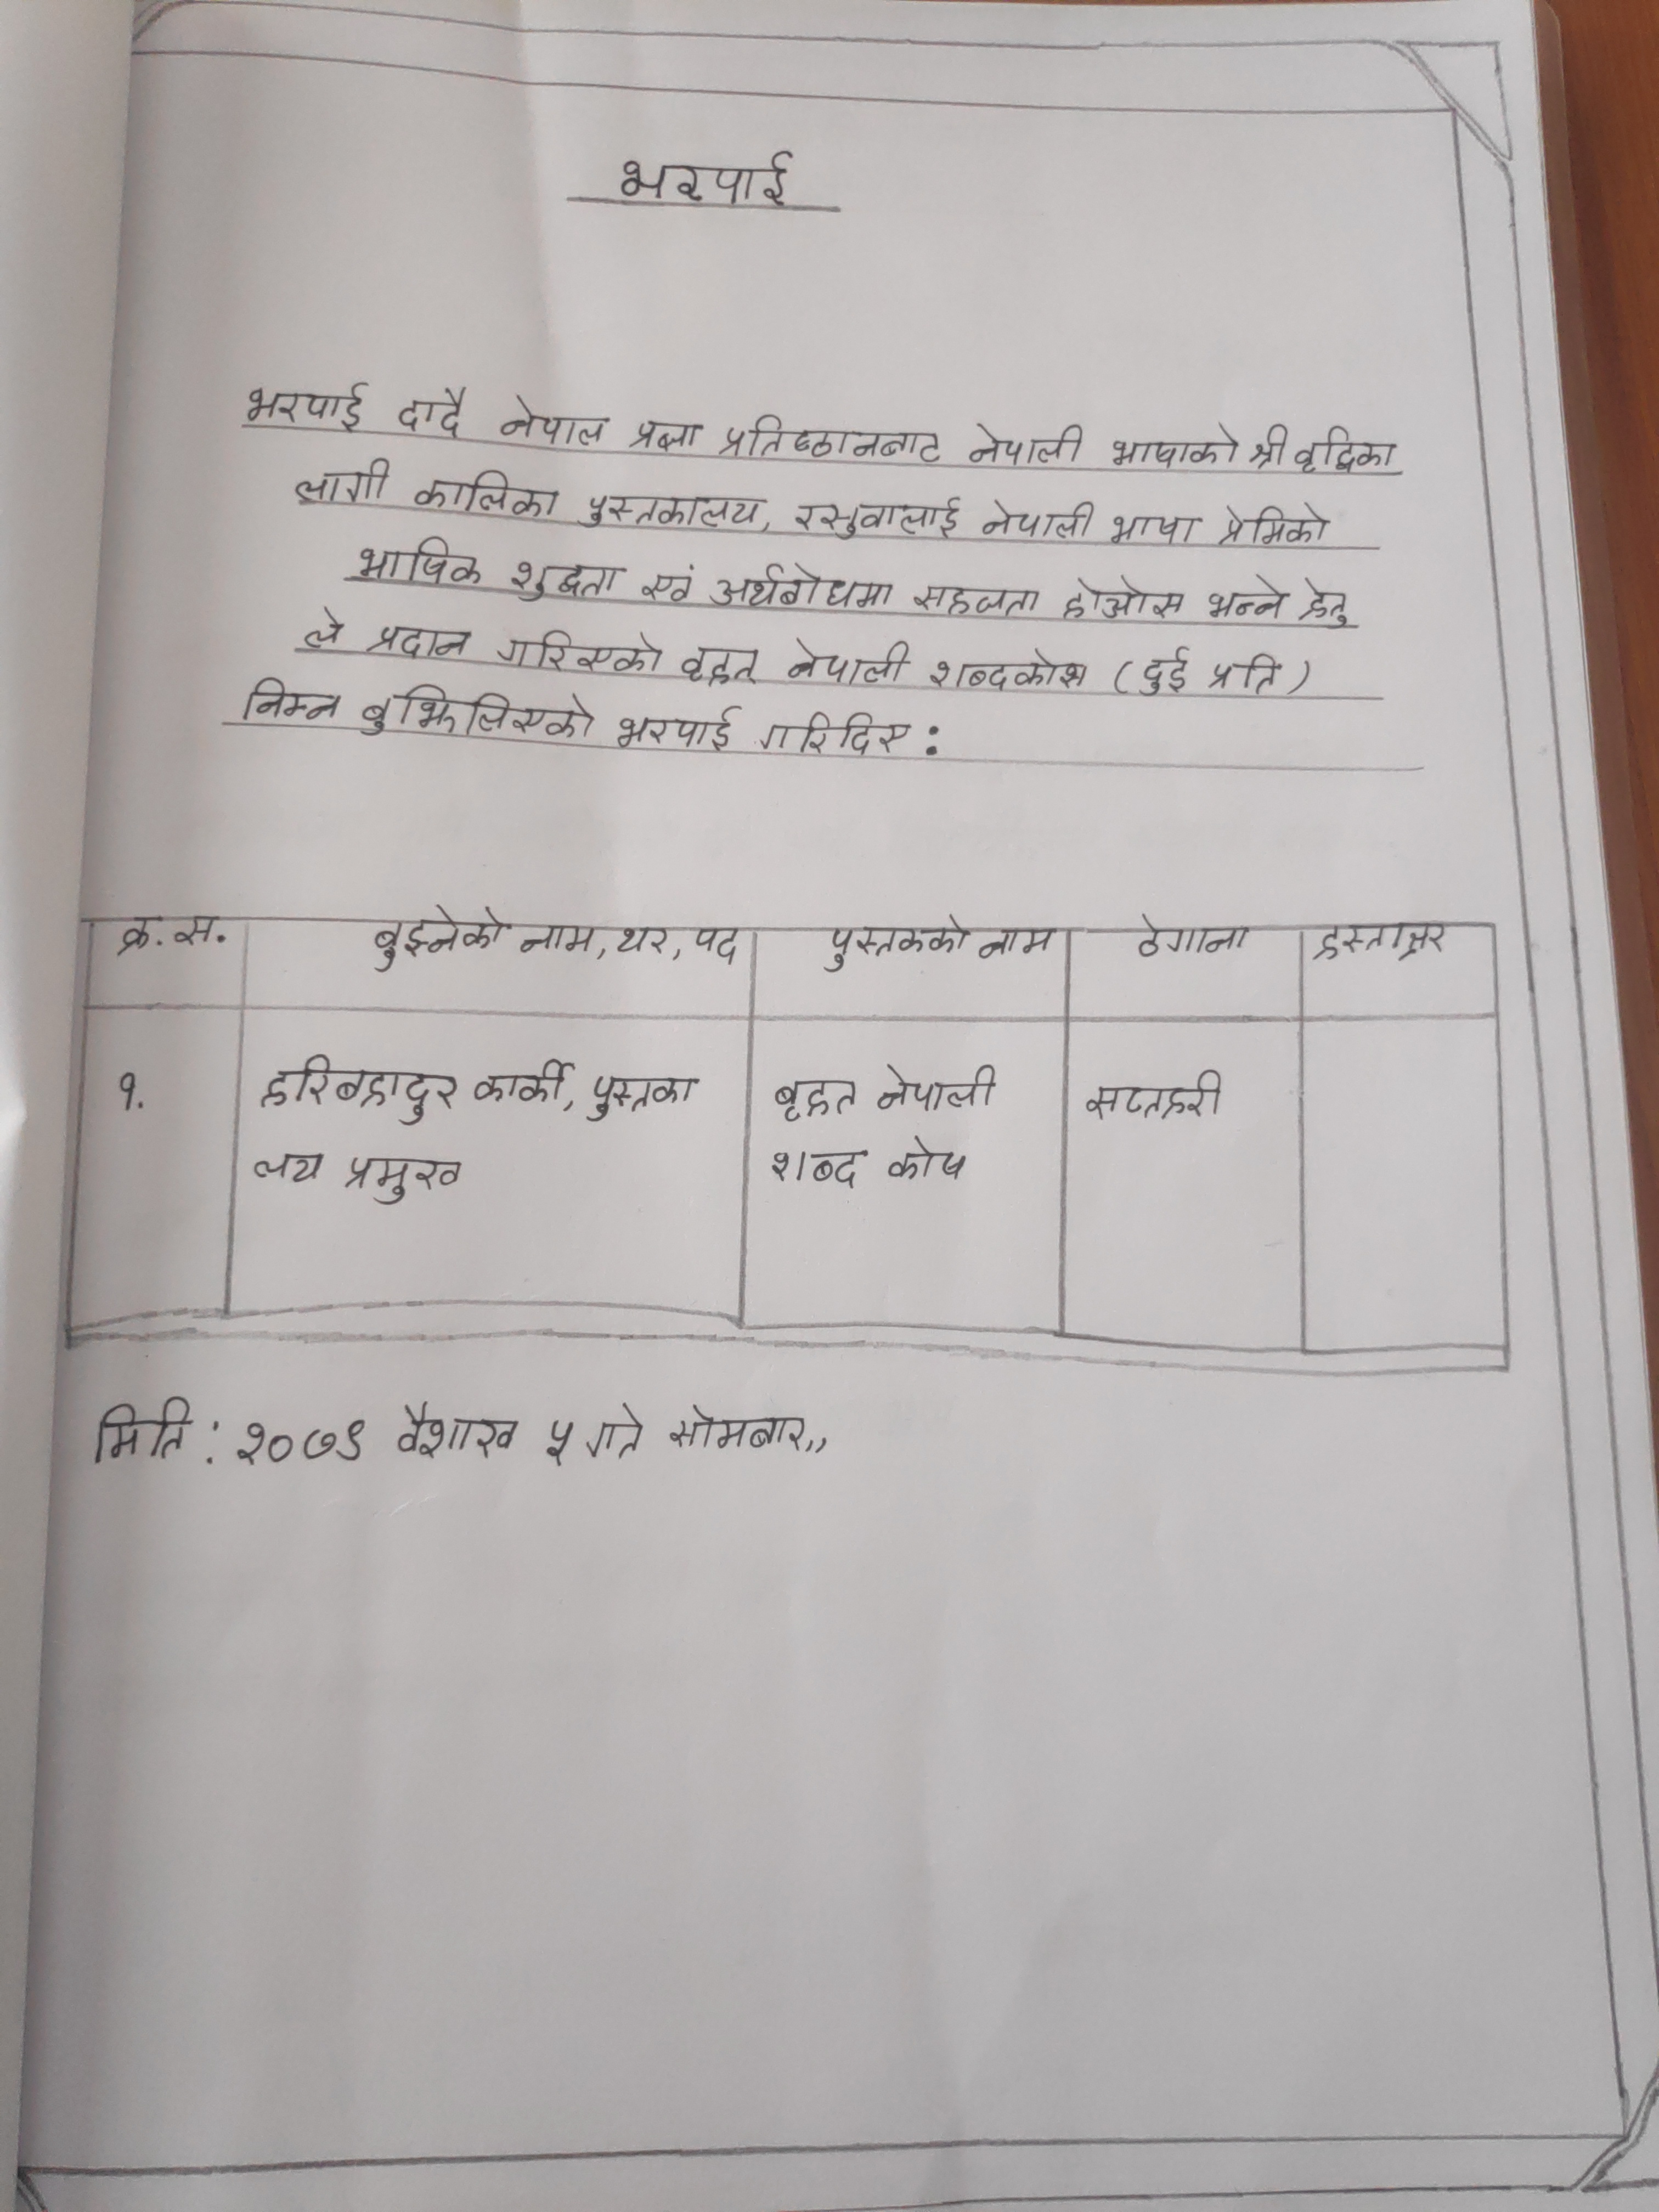text: (359, 683, 598, 749), (293, 1050, 462, 1127), (613, 146, 800, 214), (725, 411, 945, 469), (706, 559, 896, 613), (821, 914, 972, 975), (369, 906, 509, 972), (82, 1395, 192, 1474), (228, 1411, 369, 1470), (1084, 1068, 1229, 1125), (390, 1399, 523, 1461), (875, 1057, 1004, 1120), (666, 1400, 810, 1454), (497, 631, 667, 676), (756, 709, 915, 758), (777, 636, 913, 690), (577, 491, 765, 529), (416, 470, 563, 519), (789, 500, 965, 540), (495, 394, 617, 451), (924, 651, 1091, 693), (613, 700, 742, 754), (1110, 421, 1241, 474), (349, 540, 483, 590), (342, 1153, 465, 1207), (962, 416, 1087, 469), (240, 381, 371, 430), (1218, 496, 1335, 550), (1058, 575, 1190, 622), (1307, 920, 1450, 963), (239, 674, 349, 730), (1291, 425, 1399, 481), (589, 1071, 702, 1122), (507, 561, 627, 606), (1134, 914, 1255, 960), (112, 913, 232, 958), (978, 496, 1096, 540), (472, 1057, 573, 1106), (291, 455, 396, 502), (911, 583, 1046, 620), (361, 620, 477, 660), (885, 1134, 969, 1188), (765, 1148, 871, 1190), (1209, 571, 1288, 624), (770, 1075, 857, 1122), (1291, 575, 1359, 634), (676, 643, 762, 690), (1204, 653, 1286, 700), (516, 916, 598, 963), (586, 1406, 647, 1461), (397, 387, 469, 434), (1108, 507, 1204, 542), (978, 927, 1060, 967), (1143, 646, 1199, 702), (627, 418, 708, 456), (251, 1148, 322, 1190), (641, 563, 701, 608), (1248, 421, 1293, 479), (692, 921, 748, 965), (301, 604, 350, 650), (612, 921, 669, 958), (545, 1420, 579, 1468)
